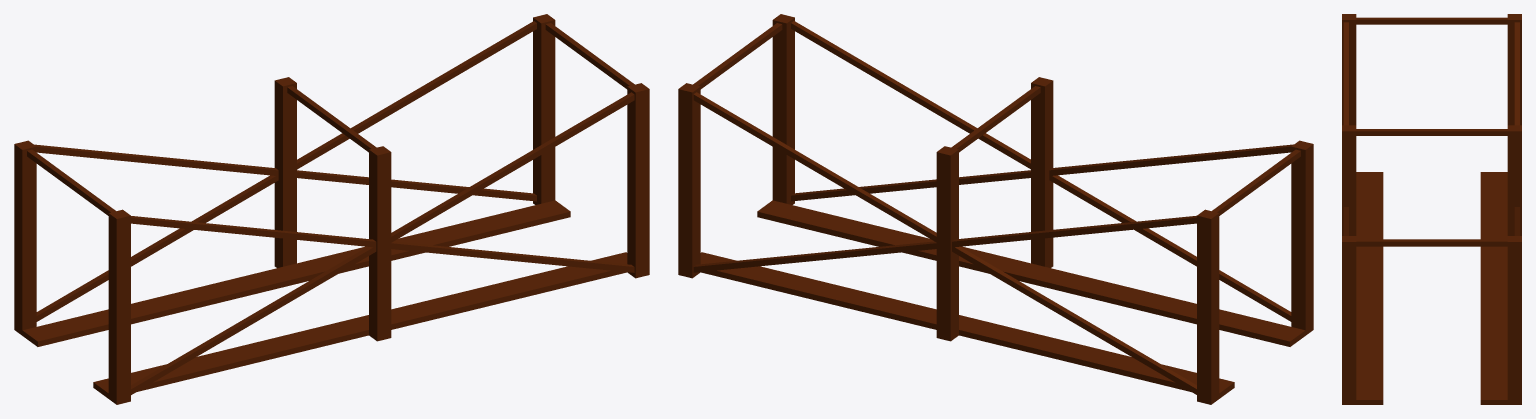
File: shelf.FBX
The picture shows the model from 3 angles, left to right: view 1: azimuth 30°, elevation 25°; view 2: azimuth 150°, elevation 25°; view 3: azimuth 270°, elevation 25°; orthographic projection. The views are drawn at different scales.
Parts seen in each view (by area): view 1: shelf; view 2: shelf; view 3: shelf.
Part boxes in pixels (x1,y1,x2,y2): shelf: (14, 14, 649, 404); shelf: (678, 14, 1313, 404); shelf: (1342, 14, 1521, 404).
Bounding box in the file's own units: 360 × 120 × 120.
